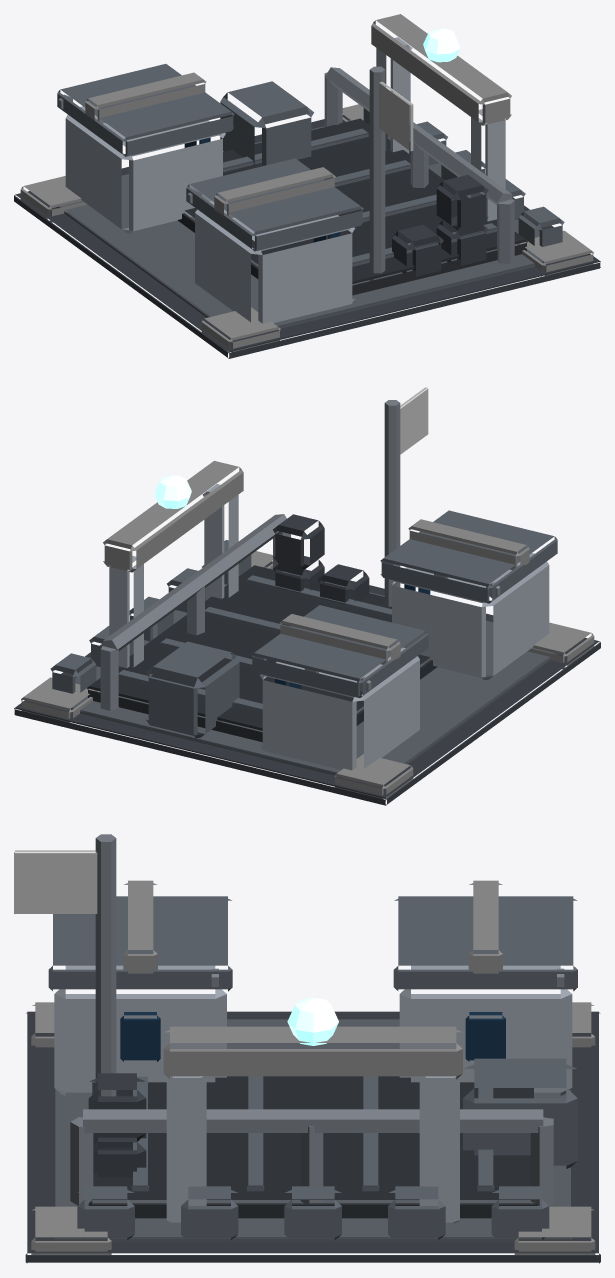
Rendered from con_barracks.glb.
The picture shows the model from 3 angles, top to bottom: view 1: azimuth 30°, elevation 25°; view 2: azimuth 150°, elevation 25°; view 3: azimuth 270°, elevation 25°; orthographic projection. The views are drawn at different scales.
Visible parts, largest first — view 1: body; view 2: body; view 3: body.
Boxes of the visible parts, <box> form: body: <box>14,14,600,358</box>; body: <box>14,387,600,805</box>; body: <box>14,834,600,1263</box>.
Bounding box in the file's own units: 80 × 46 × 81.6.
